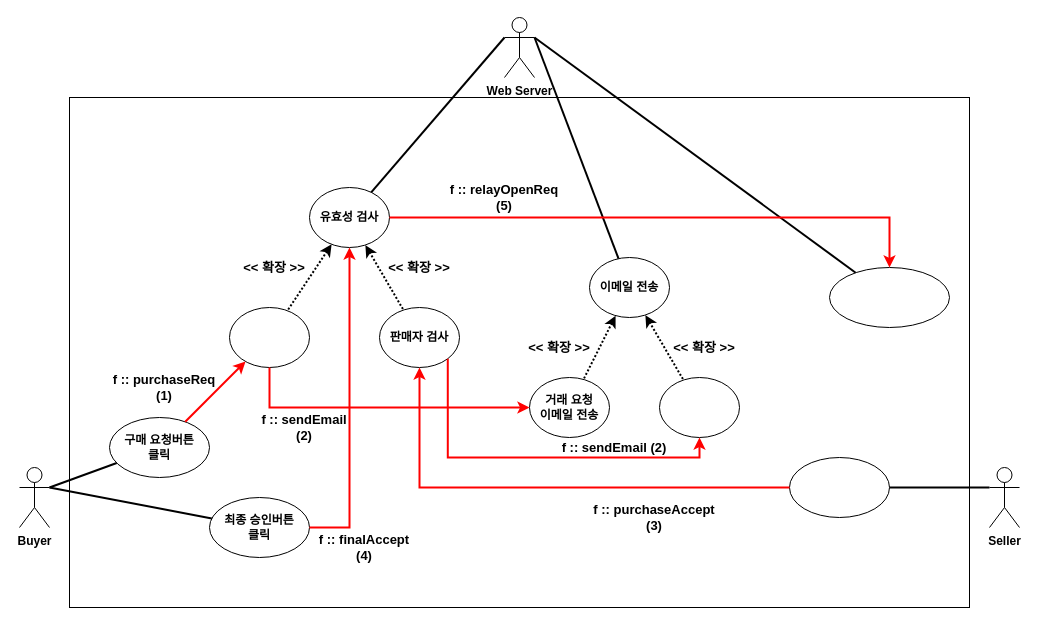
The diagram is 1038 pixels wide and 625 high, and some of its shapes have lost their labels. The shapes that lost their labels are listed below. From the top down, each one's box as (x1, y1, x2, y2) in pixels, then its label:
(828, 266, 950, 328): 릴레이 개방 시그널
(228, 306, 310, 368): 구매자 검사
(658, 376, 740, 438): 최종 승인 이메일 전송
(788, 456, 890, 518): 거래 수락버튼 클릭
